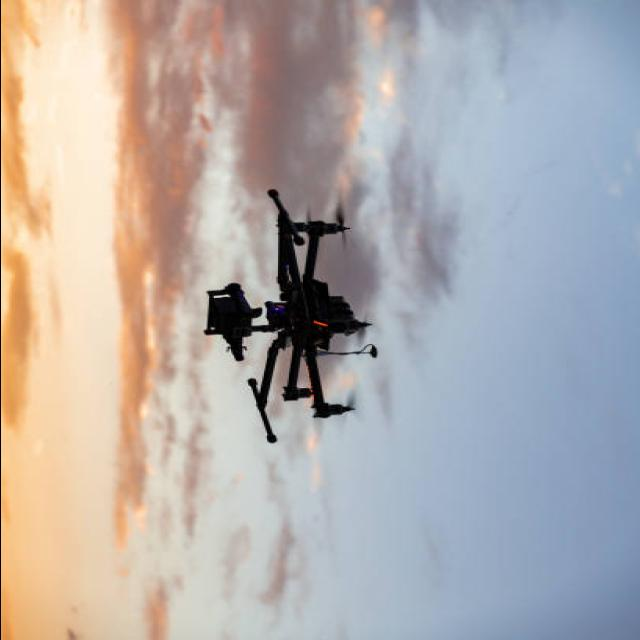drone: (202, 188, 379, 444)
